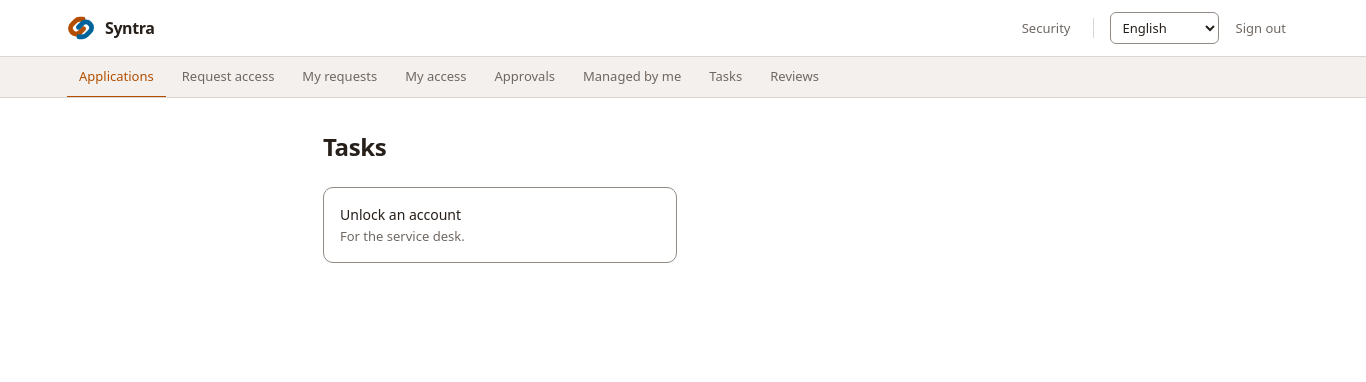
Scenario: TasksPage › reports what happened, in the action’s own words
Step 1. Click the button "Unlock an account For the service desk." → click(401, 215), box [323,187,677,263]
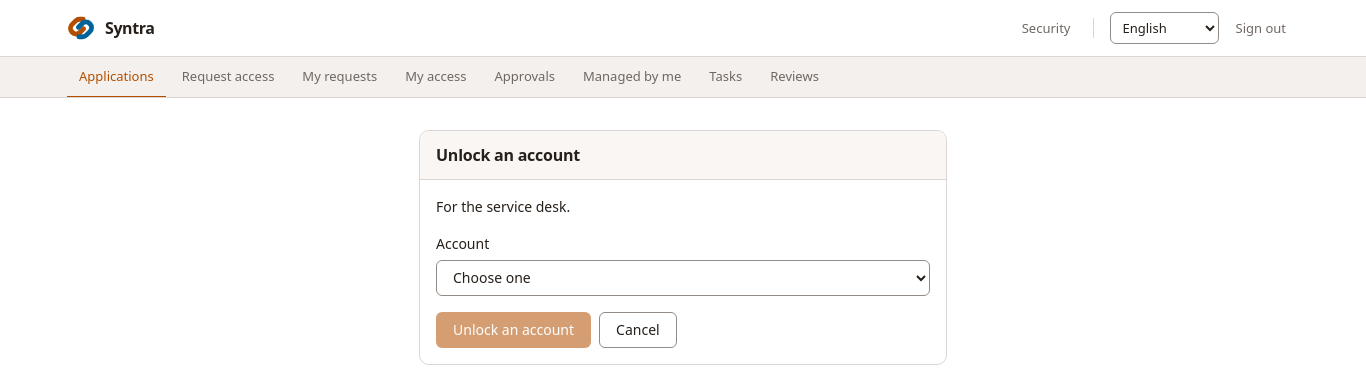
Step 2. Select "Ada Lovelace (ada)" in the dropdown labelled "Account" → (683, 278), box [436,260,930,296]
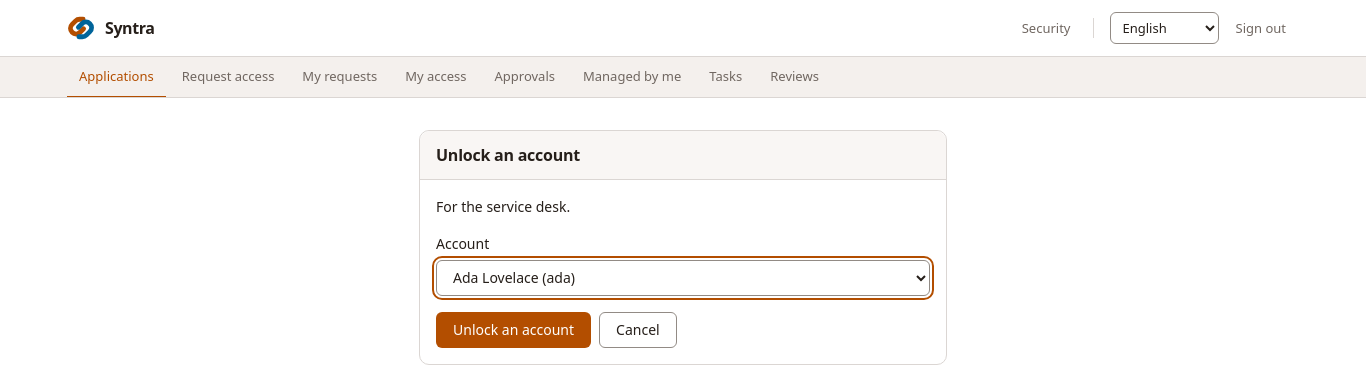
Step 3. Click the button "Unlock an account" → click(514, 330), box [436,312,591,348]
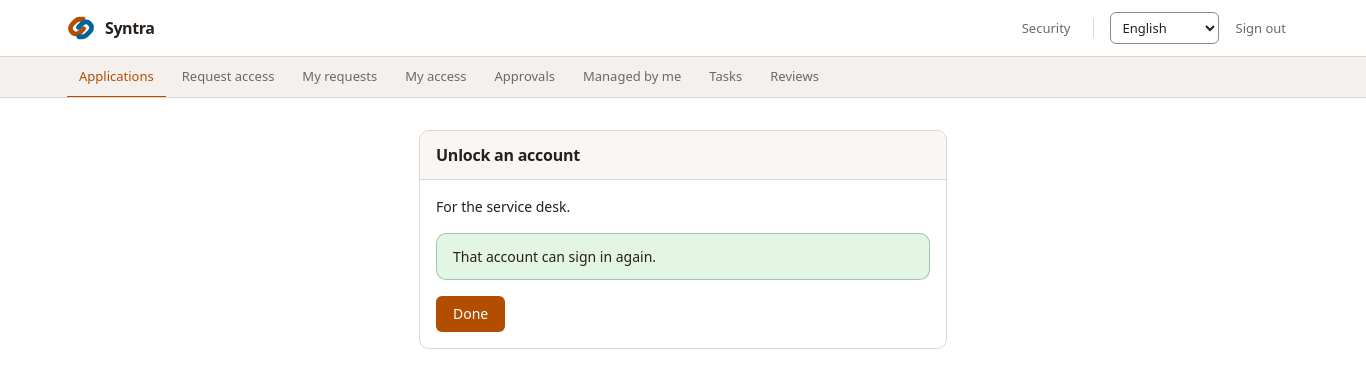
Now the text "That account can sign in again." is shown, box [453,247,656,266]
